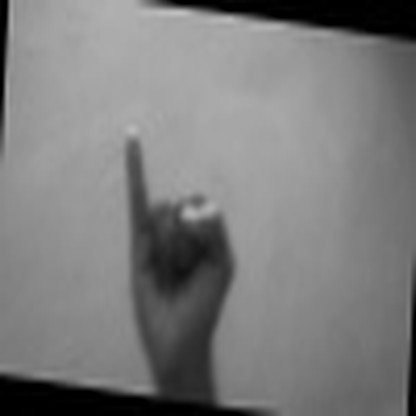i: (108, 104, 238, 386)
